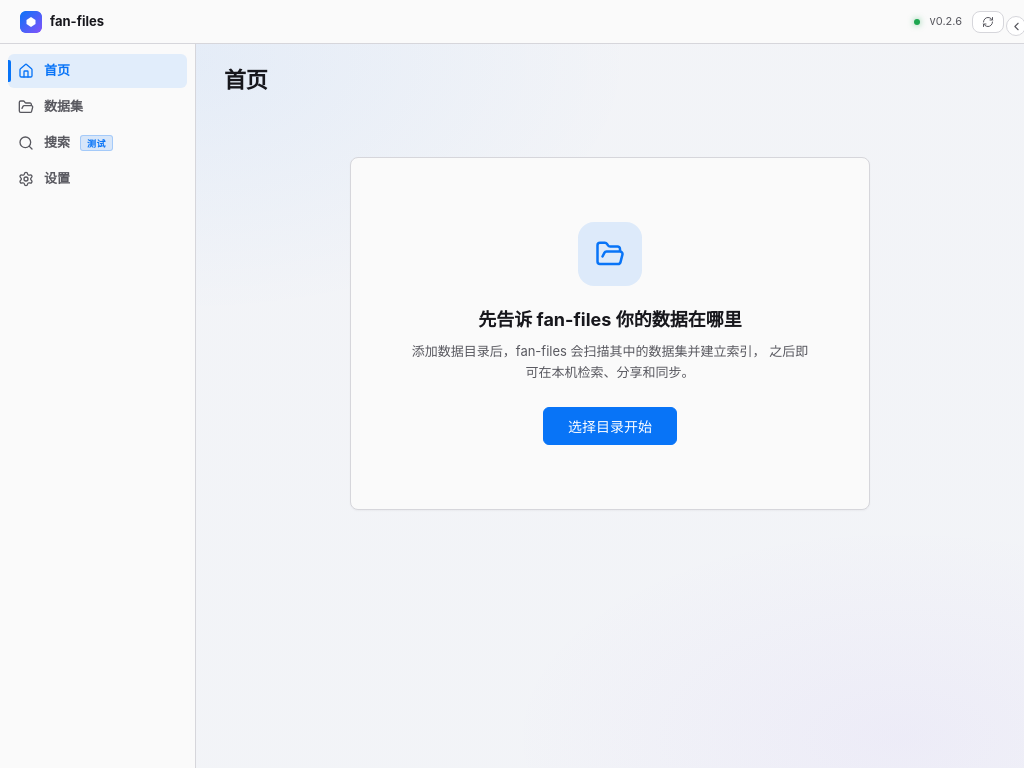
Test: App shell › home empty-state CTA jumps to the settings page
The width and height of the screenshot is (1024, 768).
Click the button "选择目录开始".
click(610, 426)  # box [543,407,677,445]
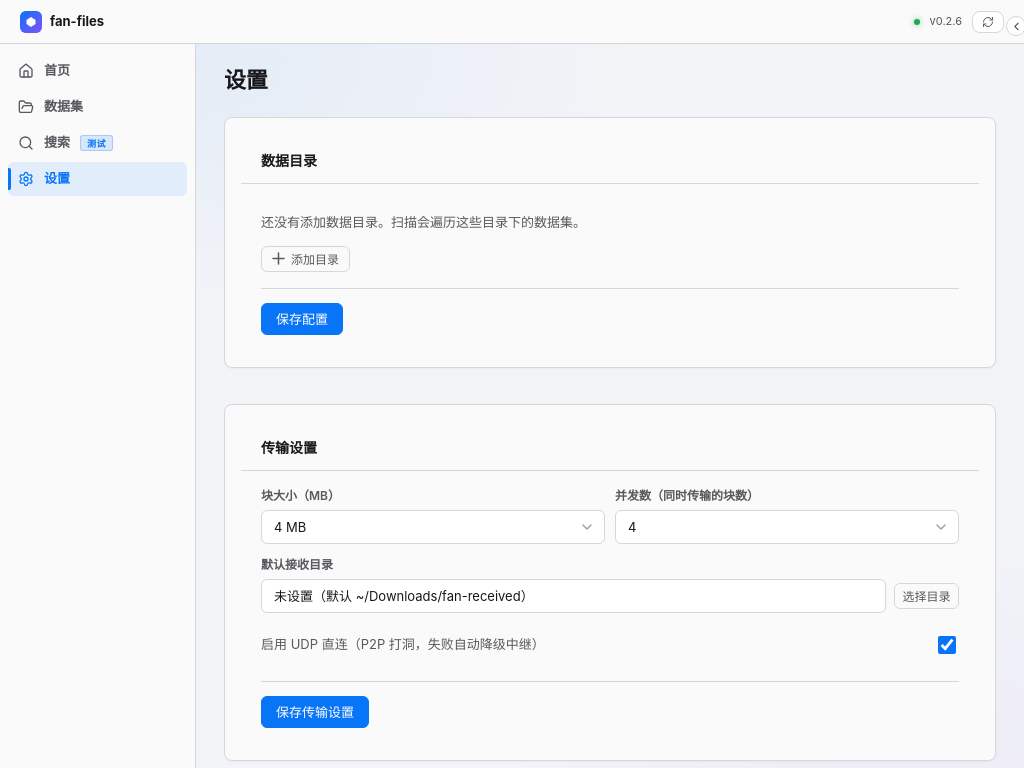
Check: the button "保存配置" is shown, box [261,302,343,334]
